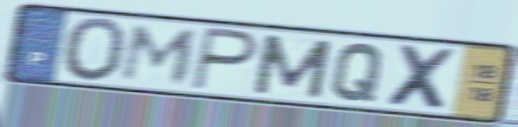M: (249, 32, 336, 101), (116, 22, 203, 87)
O: (60, 15, 130, 85)
P: (187, 25, 262, 94)
Q: (328, 41, 388, 104)
X: (383, 41, 463, 114)
